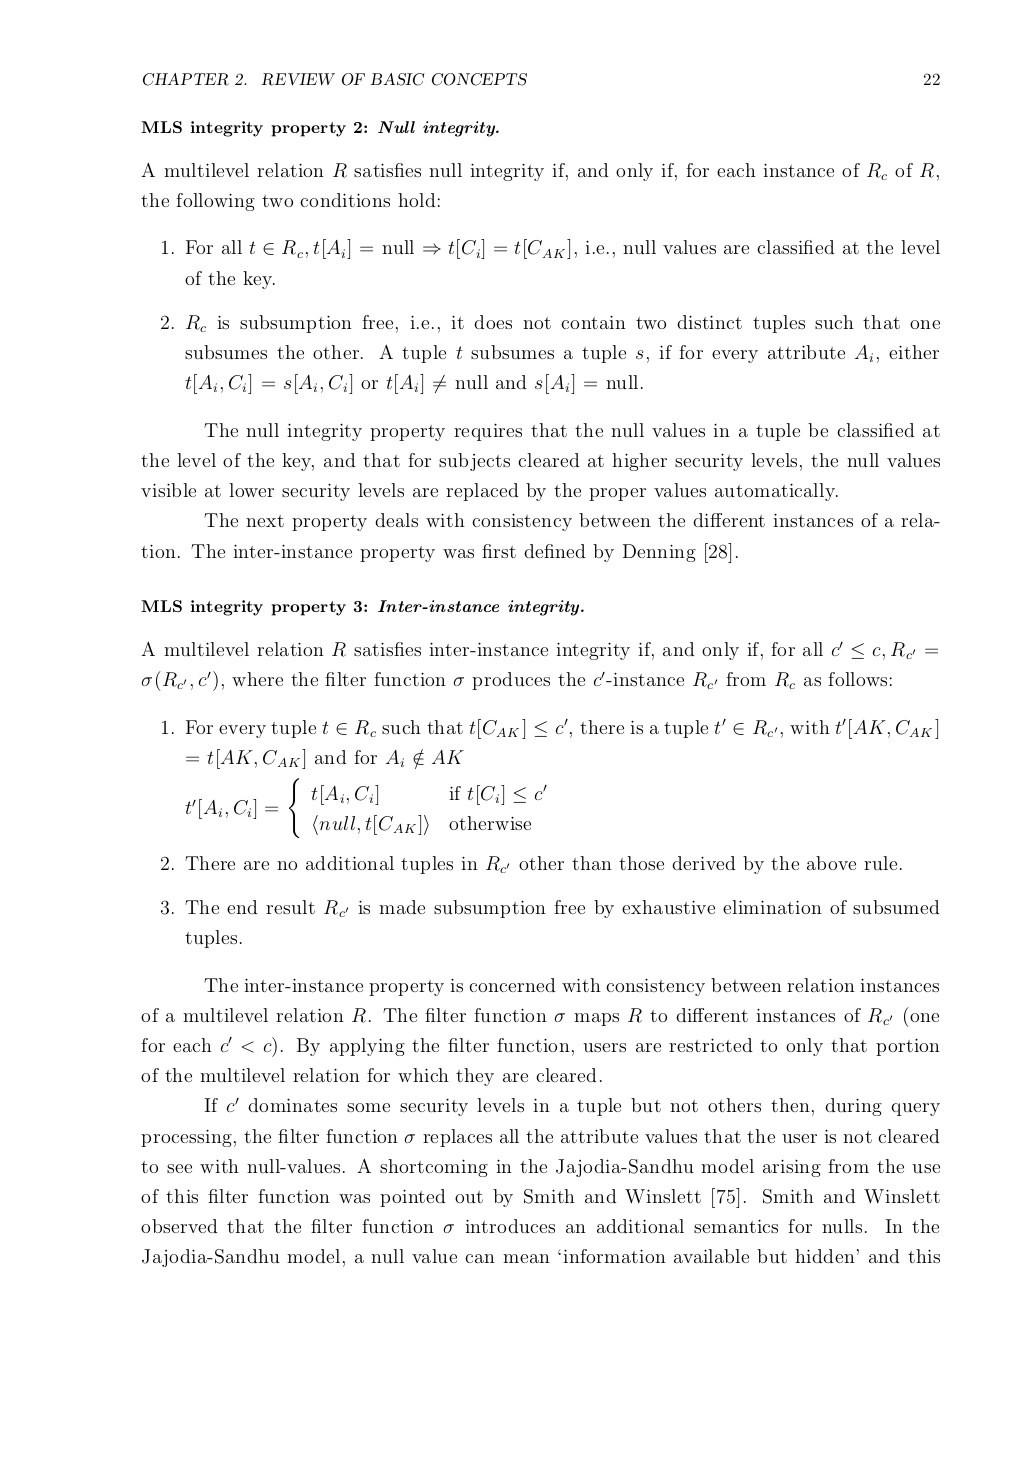formula: (185, 777, 546, 839), (185, 372, 642, 394), (187, 747, 464, 769)
